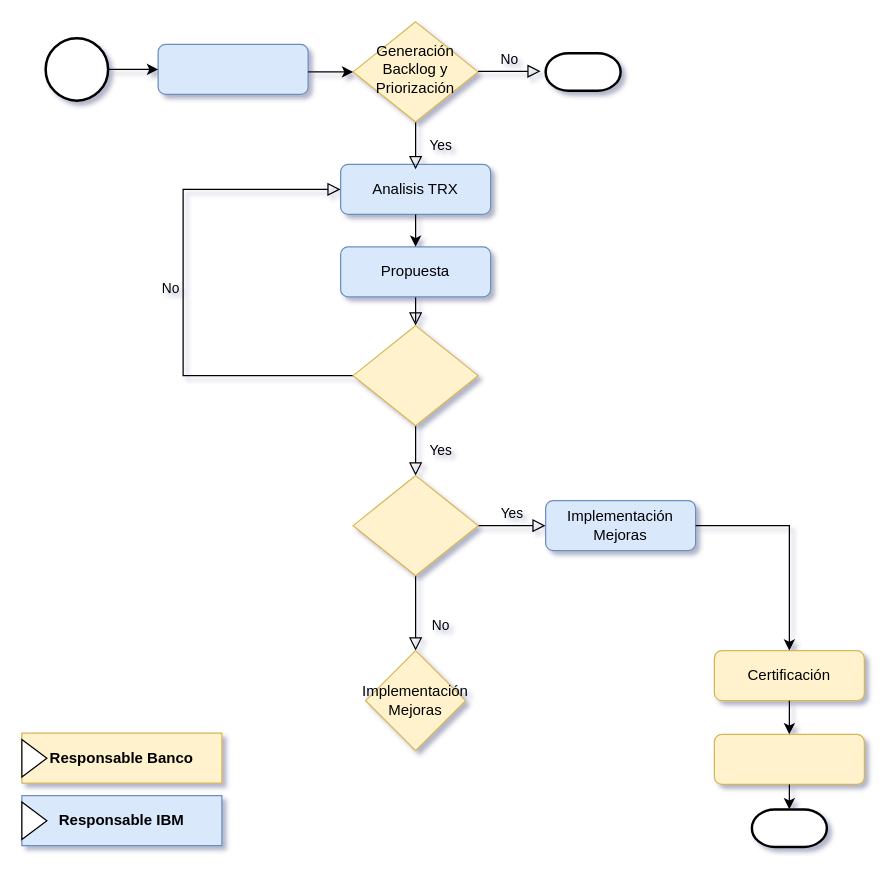
Some shapes in this 894 by 878 pixel diagram are drawn without their labels. Each missing label, with the centre of its shape:
"Aprobación" belongs at (415,375).
"Ejecución IBM" belongs at (415,525).
"Paso a Producción" belongs at (788,758).
"Reunión Canales" belongs at (232,68).
